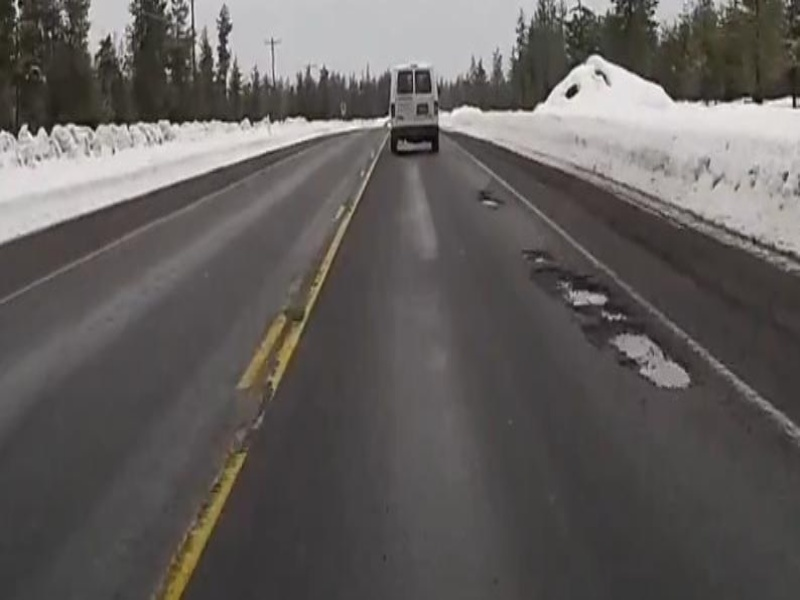pothole: (532, 266, 632, 327), (603, 329, 693, 393)
